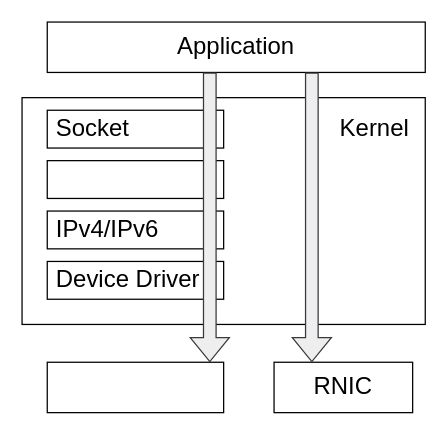
Some shapes in this 447 by 435 pixel diagram are drawn without their labels. The centre of each missing label's shape, as x and y in pixels:
NIC: [135,387]
TCP: [135,178]
